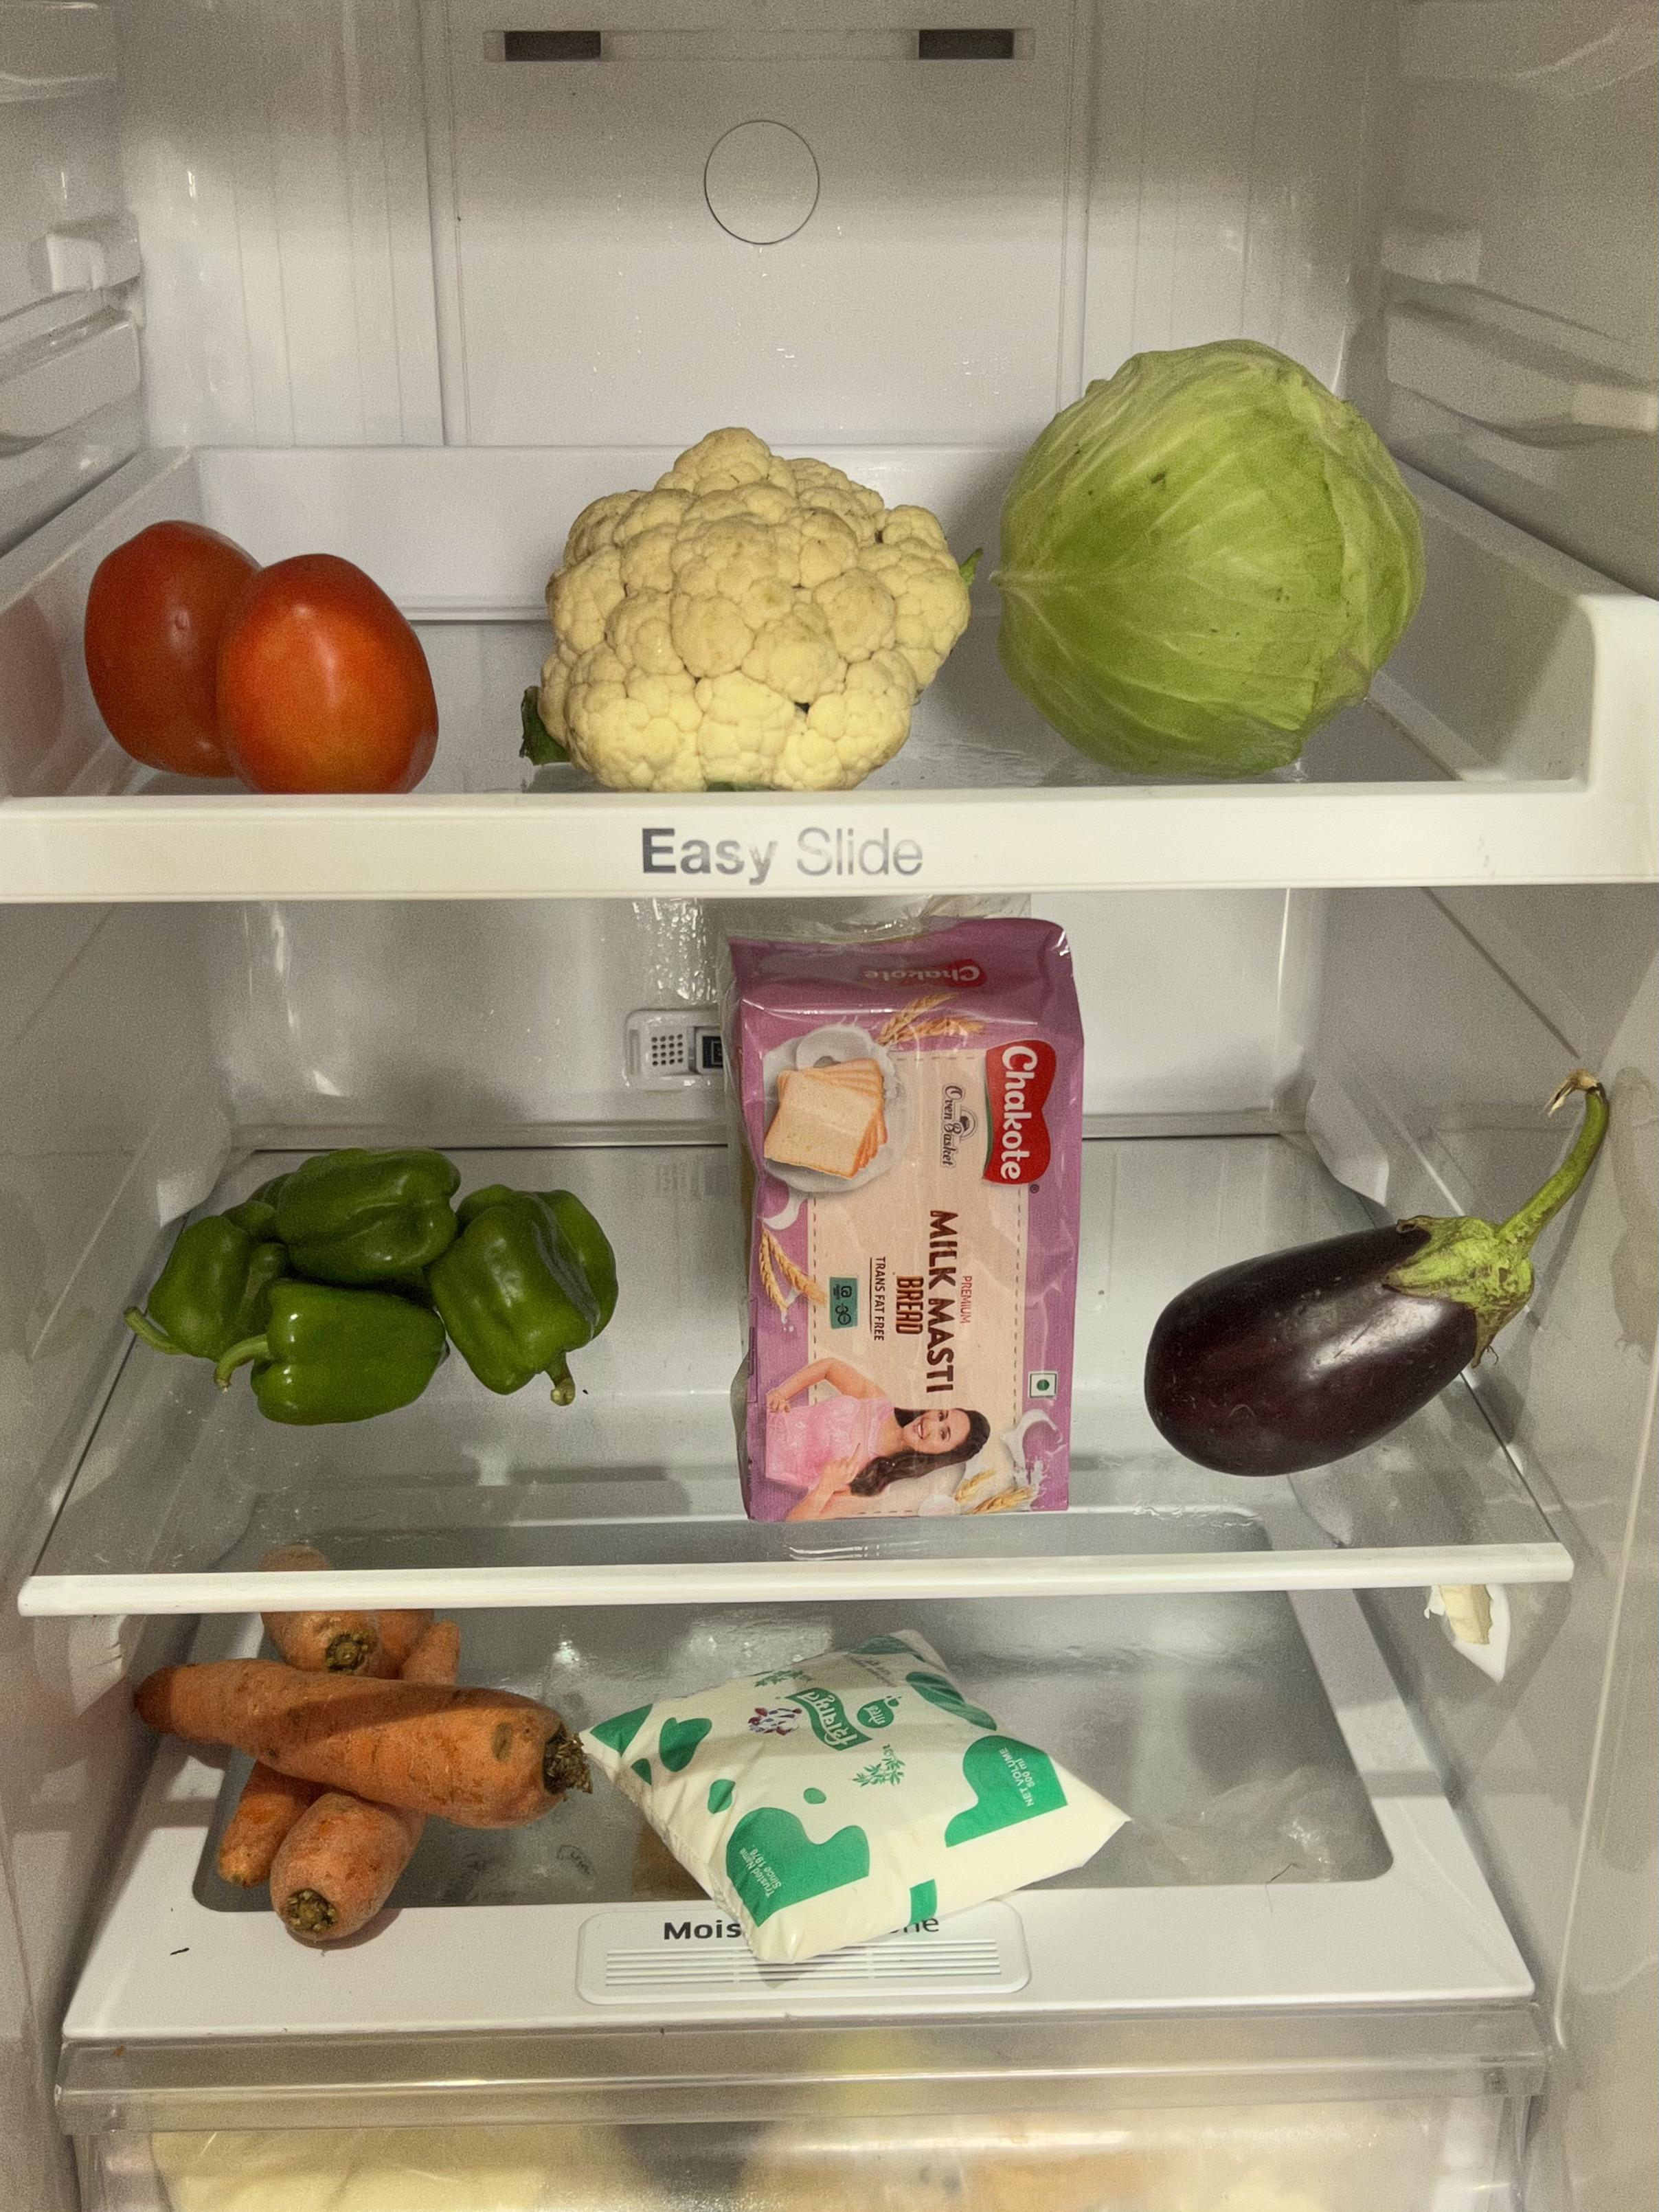tomato: (87, 519, 439, 792)
